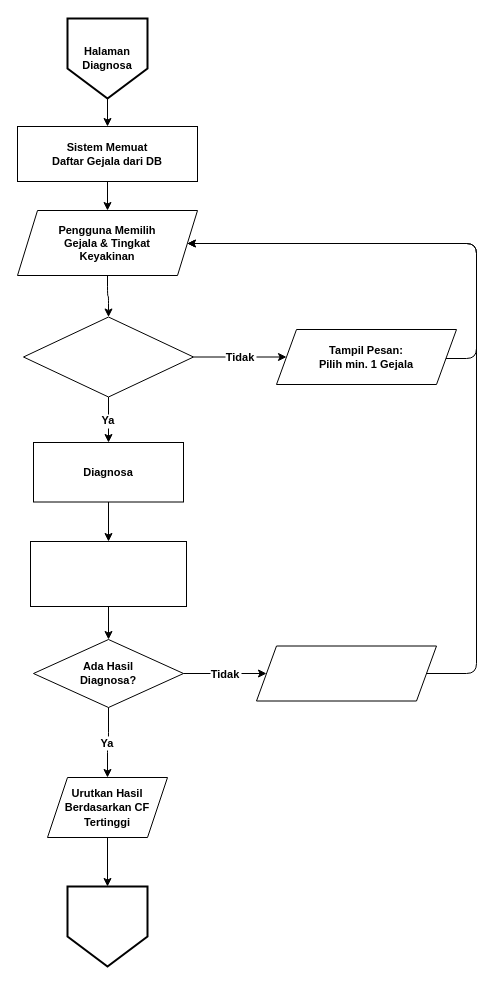
This 502x984 diagram has some shape labels left out. The shapes that lost their labels are listed below. From the top down, each one's box as (x1, y1, x2, y2) in pixels, then its label:
(22, 316, 194, 397): Gejala Dipilih?
(30, 540, 186, 606): Sistem Hitung CF (Certainty Factor) tiap Penyakit
(256, 645, 436, 701): Tampil Pesan: Tidak Ada Penyakit Terdeteksi
(66, 885, 148, 967): Halaman Hasil Diagnosa
